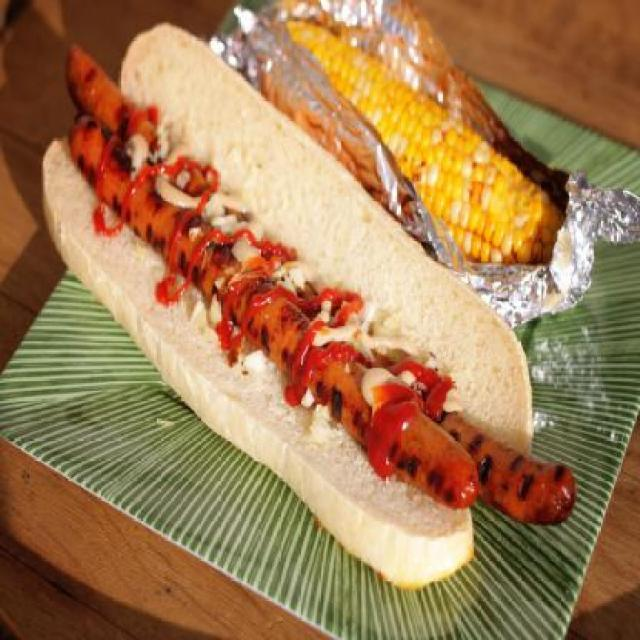Hot dog: (32, 19, 578, 596)
